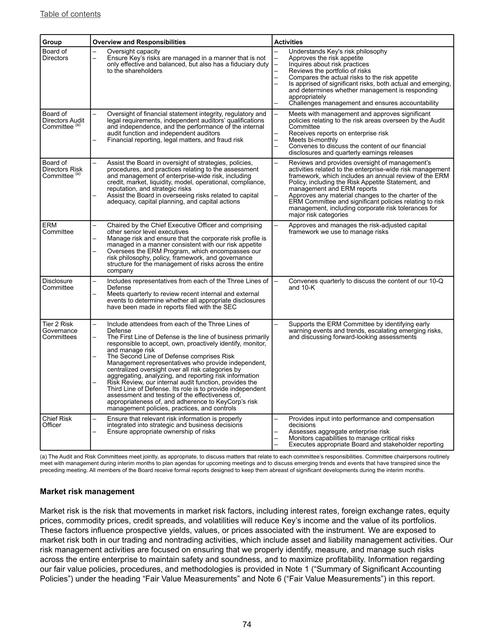box: (38, 33, 457, 452)
